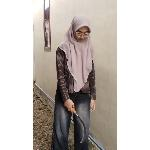Celurit: (68, 108, 92, 146)
